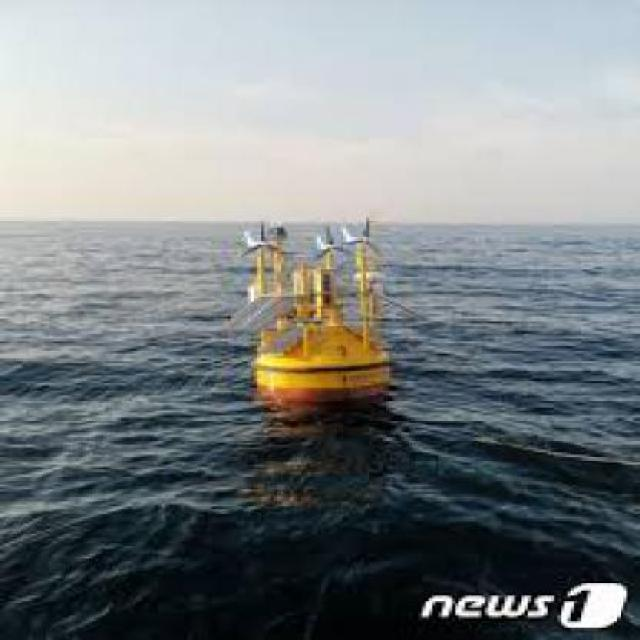buoy: (218, 207, 433, 407)
